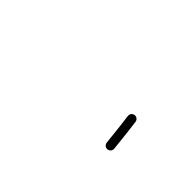i: (94, 101, 151, 159)
